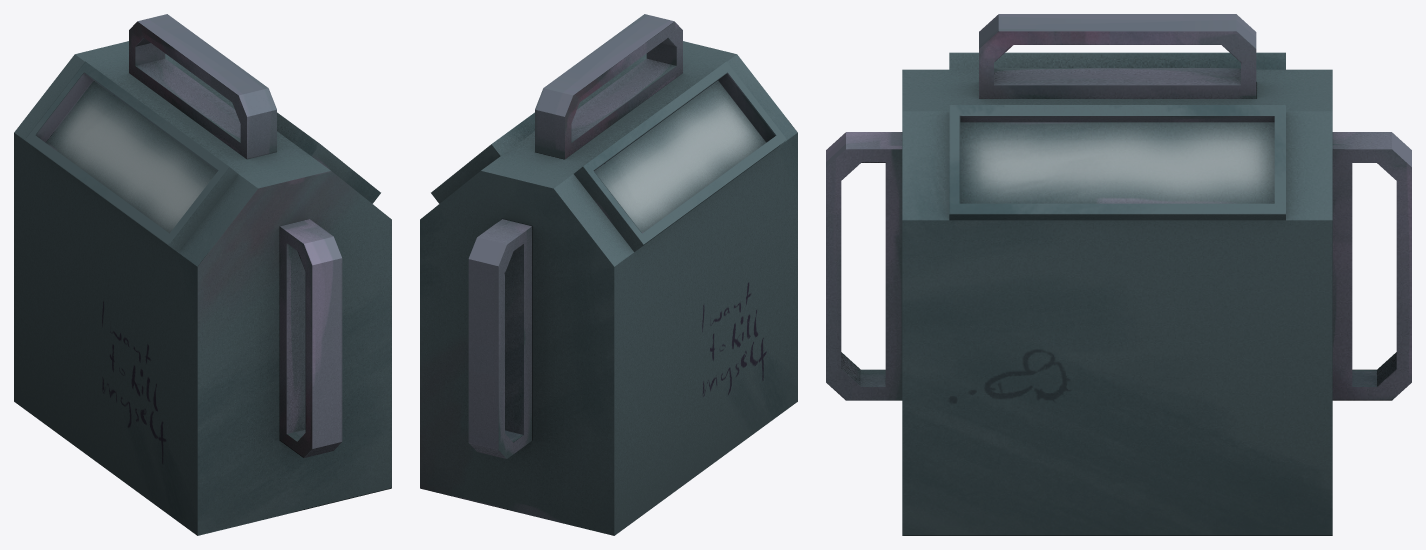
The model's file is transportkiste.fbx.
The picture shows the model from 3 angles, left to right: view 1: azimuth 30°, elevation 25°; view 2: azimuth 150°, elevation 25°; view 3: azimuth 270°, elevation 25°; orthographic projection. The views are drawn at different scales.
Parts seen in each view (by area): view 1: BoxLo; view 2: BoxLo; view 3: BoxLo.
Boxes of the visible parts, left/top/right/bottom form: BoxLo: left=14, top=14, right=391, bottom=535; BoxLo: left=420, top=14, right=797, bottom=535; BoxLo: left=826, top=14, right=1411, bottom=535.
Bounding box in the file's own units: 134 × 235 × 272.
1 material, 1 textured.
